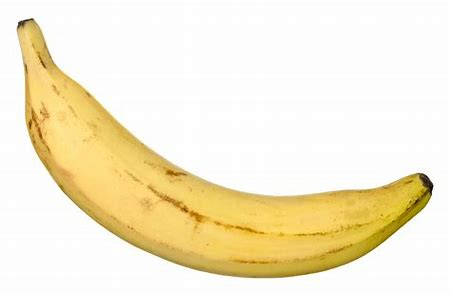banana: (15, 15, 433, 277)
